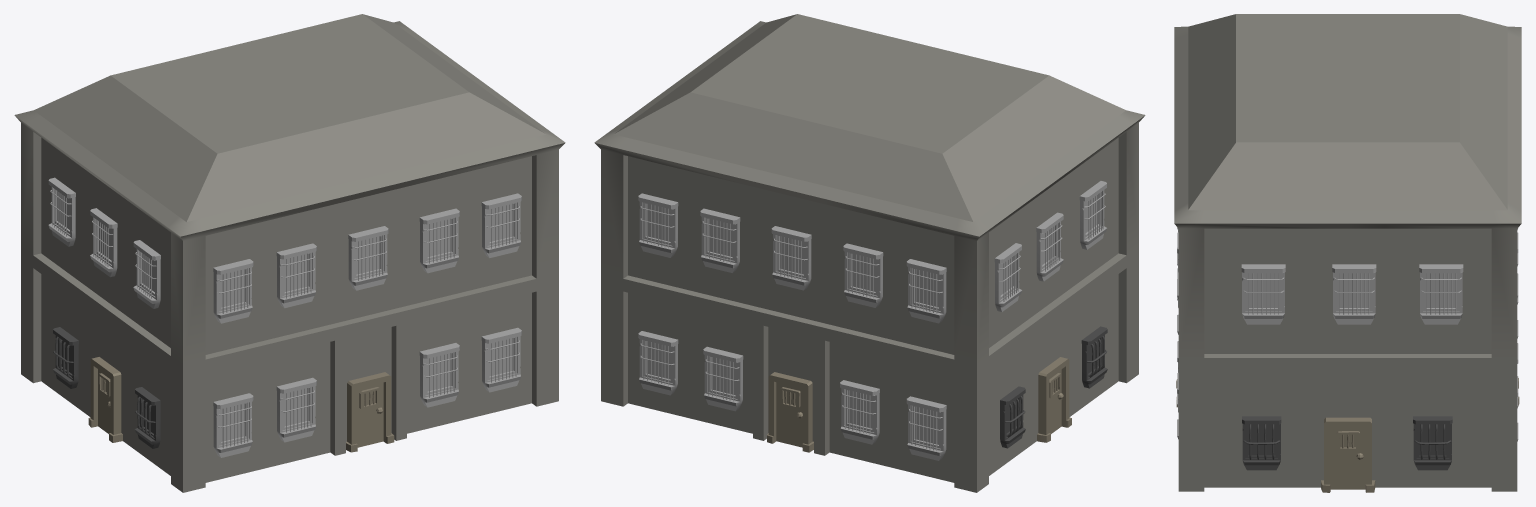
Rendered from LD_Building01.fbx.
3 renders of one model, left to right at view 1: azimuth 30°, elevation 25°; view 2: azimuth 150°, elevation 25°; view 3: azimuth 270°, elevation 25°, orthographic. The views are drawn at different scales.
Parts seen in each view (by area): view 1: Building2; view 2: Building2; view 3: Building2.
Part boxes in pixels (bbox=[...]): Building2: bbox=[14, 14, 565, 492]; Building2: bbox=[594, 14, 1145, 492]; Building2: bbox=[1174, 14, 1521, 492].
Size of the model in its own units: 14.4 by 10.85 by 10.76.
